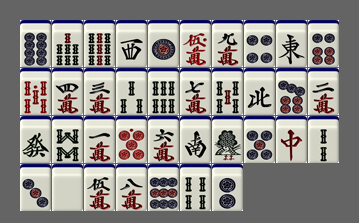0m: (180, 20, 211, 67)
0p: (116, 116, 147, 163)
0s: (20, 68, 51, 115)
1m: (84, 116, 115, 163)
1p: (148, 20, 179, 67)
1s: (212, 116, 243, 163)
1z: (276, 20, 307, 67)
2m: (308, 68, 339, 115)
2p: (212, 164, 243, 211)
2s: (308, 116, 339, 163)
2z: (180, 116, 211, 163)
3m: (84, 68, 115, 115)
3p: (20, 164, 51, 211)
3s: (116, 68, 147, 115)
3z: (116, 20, 147, 67)
4m: (52, 68, 83, 115)
4p: (244, 20, 275, 67)
4s: (180, 164, 211, 211)
4z: (244, 68, 275, 115)
5m: (84, 164, 115, 211)
5p: (244, 116, 275, 163)
5s: (212, 68, 243, 115)
5z: (52, 164, 83, 211)
6m: (148, 116, 179, 163)
6p: (308, 20, 339, 67)
6s: (148, 68, 179, 115)
6z: (20, 116, 51, 163)
7m: (180, 68, 211, 115)
7p: (276, 68, 307, 115)
7s: (52, 20, 83, 67)
7z: (276, 116, 307, 163)
8m: (116, 164, 147, 211)
8p: (20, 20, 51, 67)
8s: (52, 116, 83, 163)
9m: (212, 20, 243, 67)
9p: (148, 164, 179, 211)
9s: (84, 20, 115, 67)
